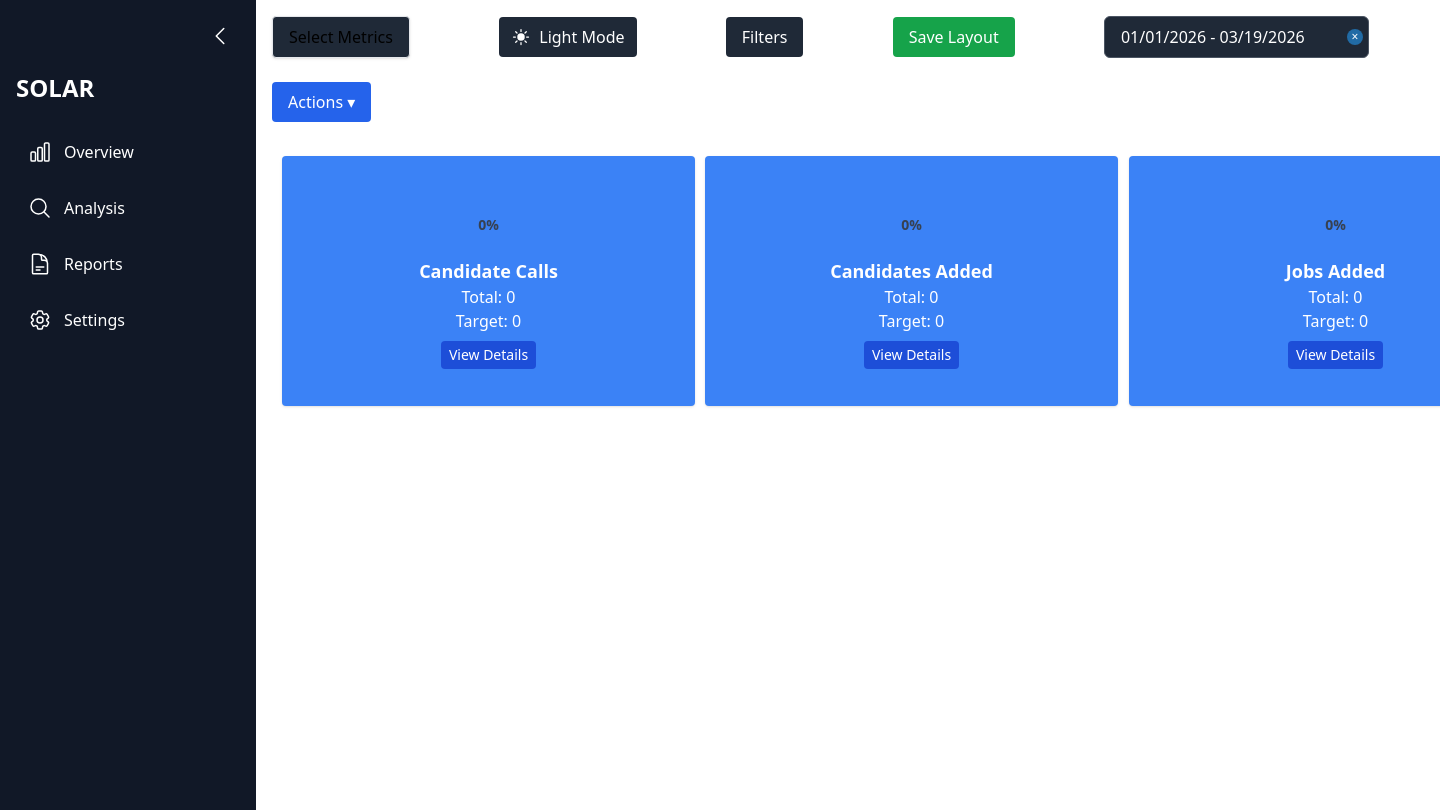
Test: FilterModal integration in DashboardPage › opens FilterModal and shows dropdown options
The image size is (1440, 810).
Note: Click to open the modal
Click the button "Filters": [765, 37] box [726, 17, 803, 57]
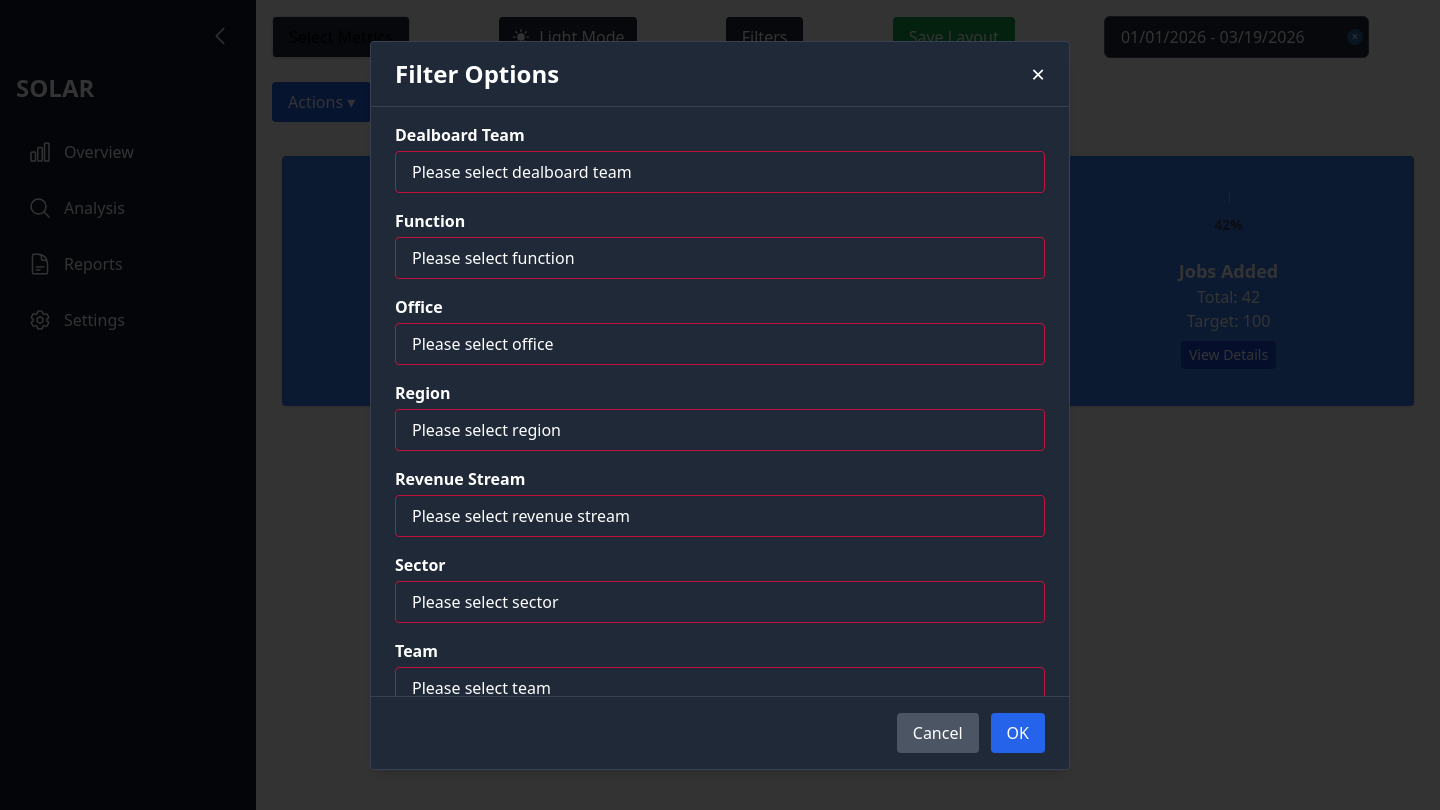
expect the heading "Filter Options" is shown: met, box [395, 58, 559, 90]
Note: Open DealboardTeam dropdown
Click the button "Please select dealboard team": [522, 172] box [395, 150, 1045, 192]
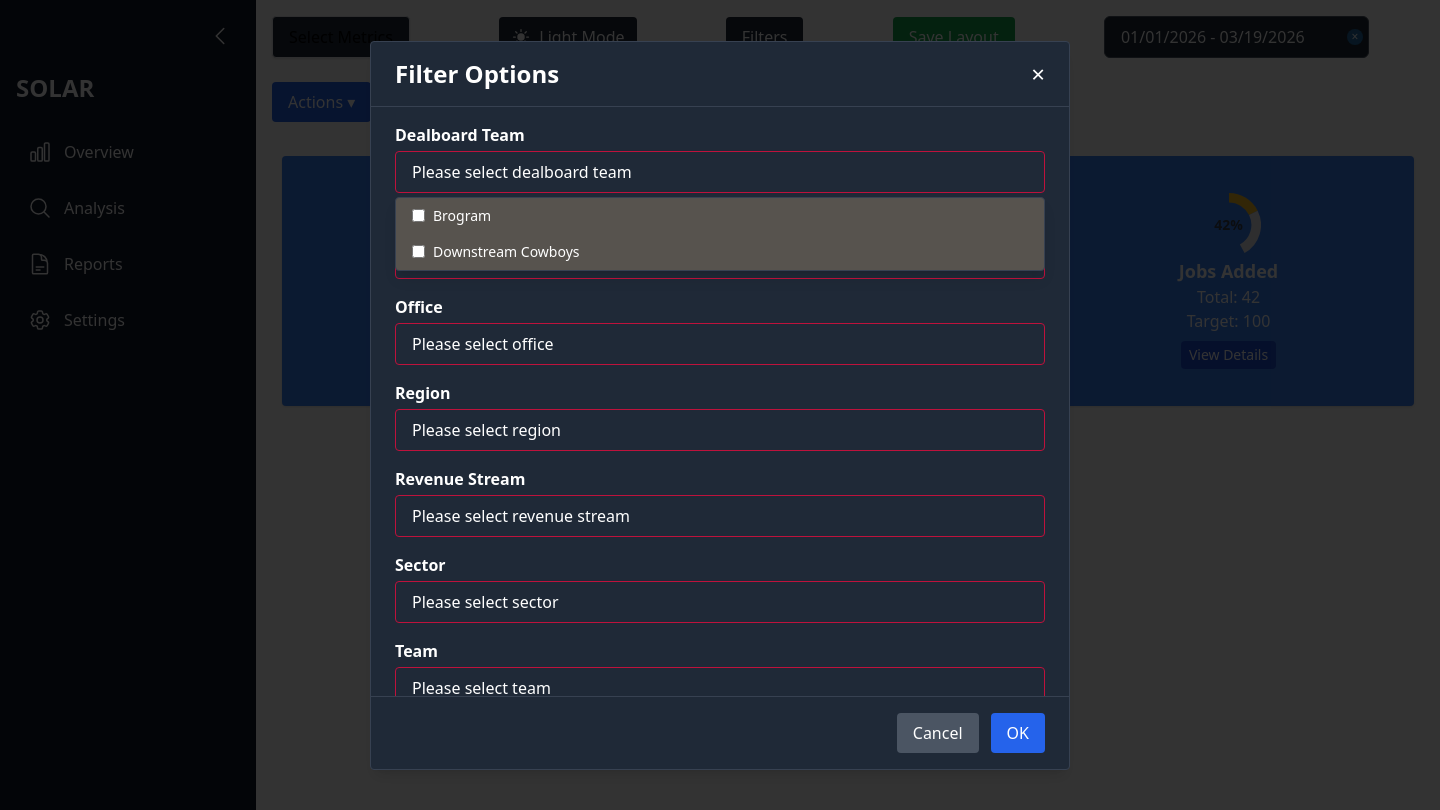
expect the text "Brogram" is shown: met, box [412, 206, 491, 224]
expect the text "Downstream Cowboys" is shown: met, box [412, 242, 580, 260]
